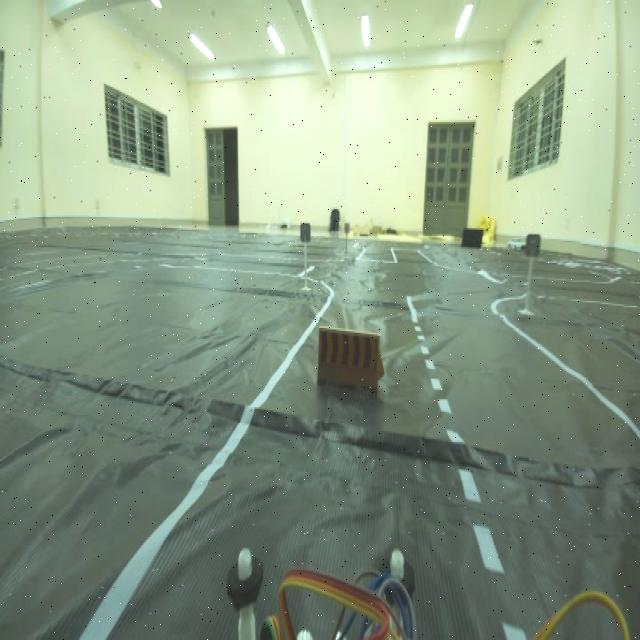roadblock: (313, 322, 387, 401)
